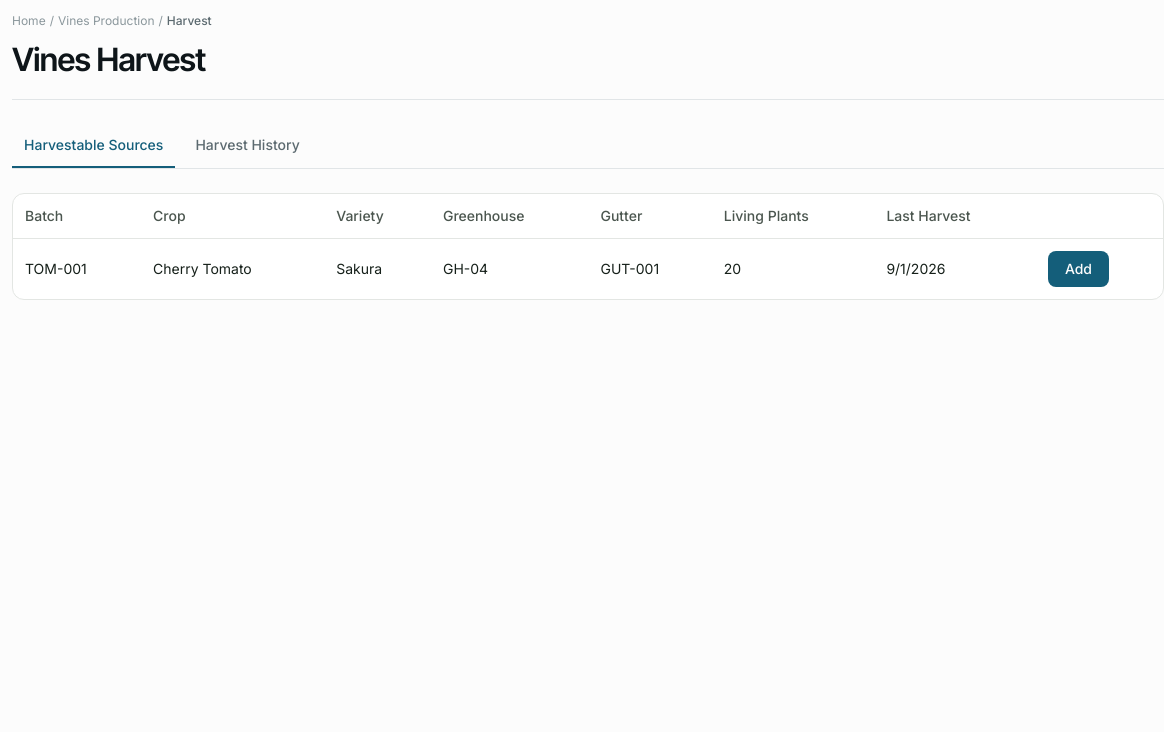
VinesHarvestPage › Loss/harvest never implies plants were removed -- repeat-harvest reassurance shown in Review
Expected: the text "GUT-001" is shown, [588,238,712,299]
Click the button "Add".
click(1078, 269)  # box [1048,251,1109,287]
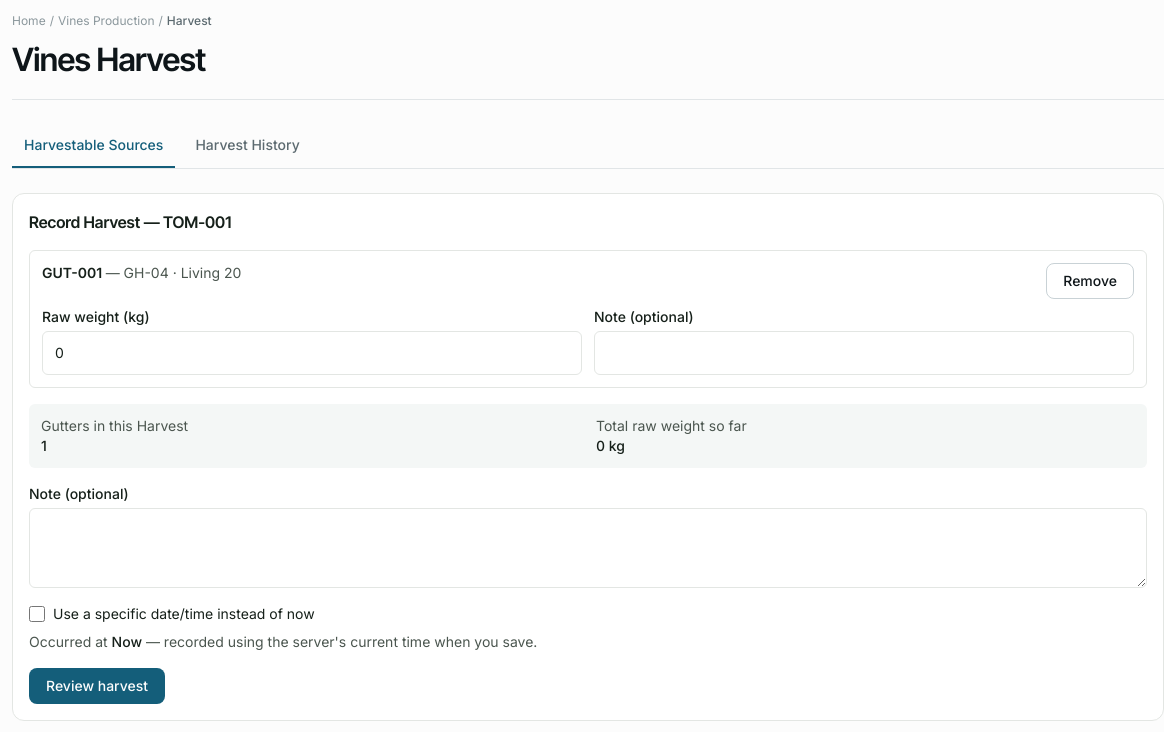
Result: the number field labelled "Raw weight (kg)" is shown
Replace the text in the number field labelled "Raw weight (kg)" with "10" at {"x": 312, "y": 353}, box [42,331,582,375]
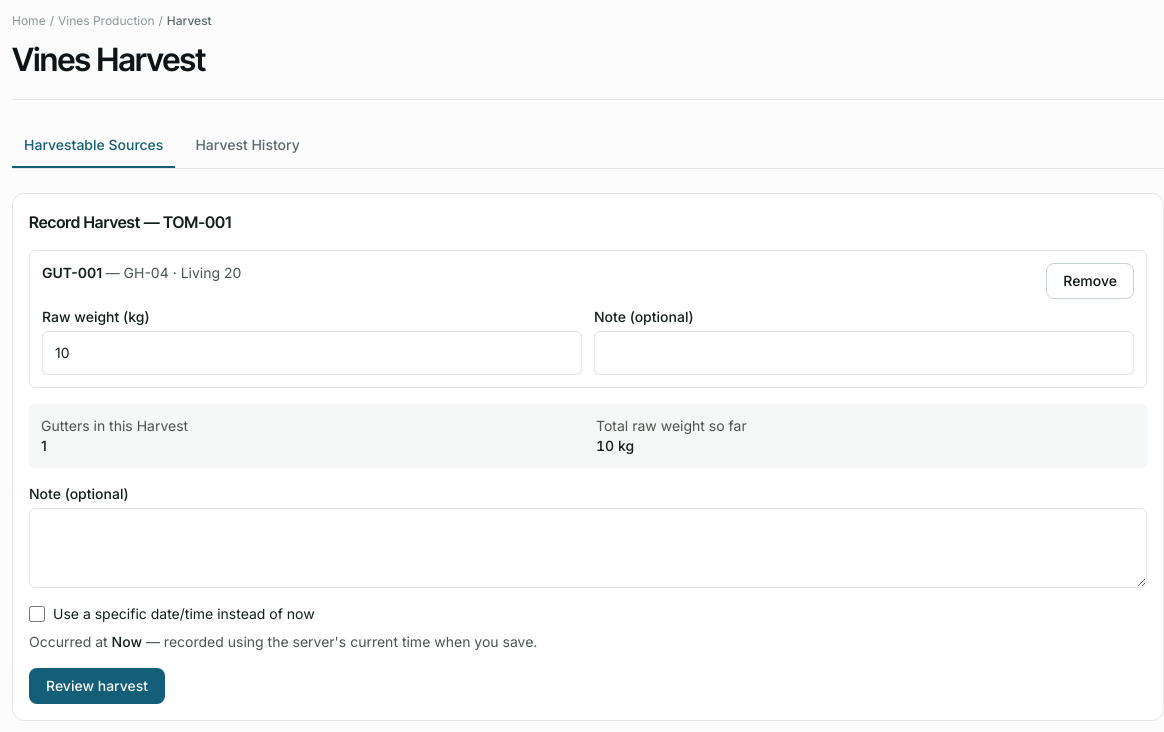
Click the button "Review harvest".
click(97, 686)  # box [29,668,165,704]
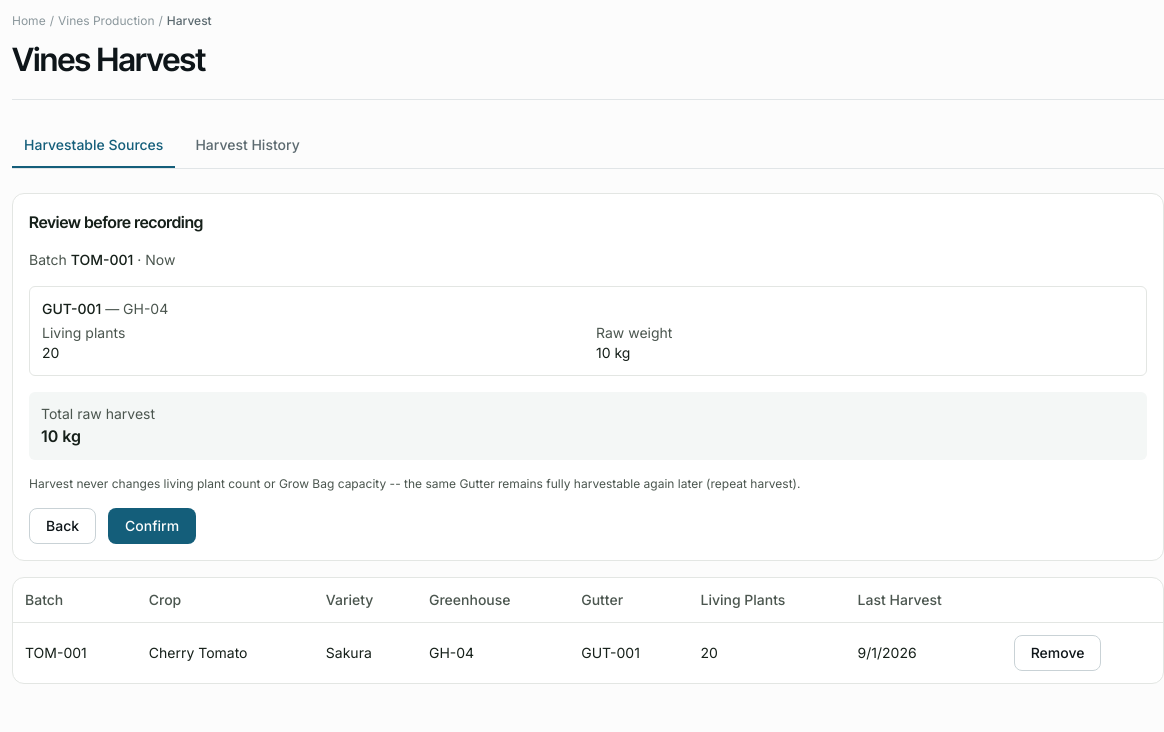
Result: the text "remains fully harvestable again later (repeat harvest)" is shown at [29,476,800,491]
